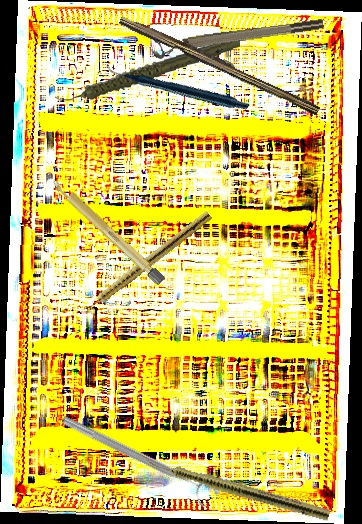Fixation Ring: (54, 410, 223, 513), (149, 15, 326, 61)
Handpiece: (104, 10, 251, 161), (81, 208, 213, 315), (51, 34, 244, 105), (137, 453, 332, 522)
Scalpel Handle: (117, 12, 323, 116), (49, 176, 167, 286)
